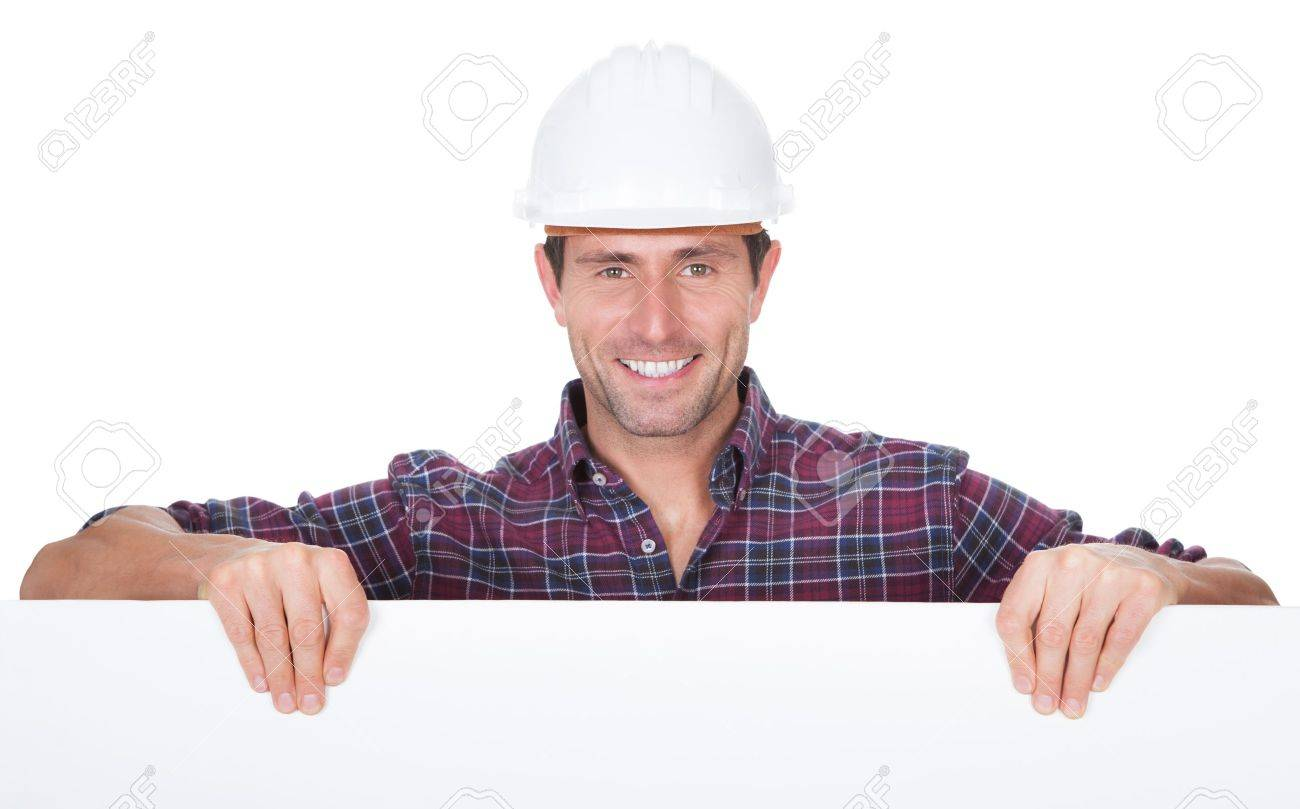Person_wearing_helmet: (500, 36, 801, 298)
